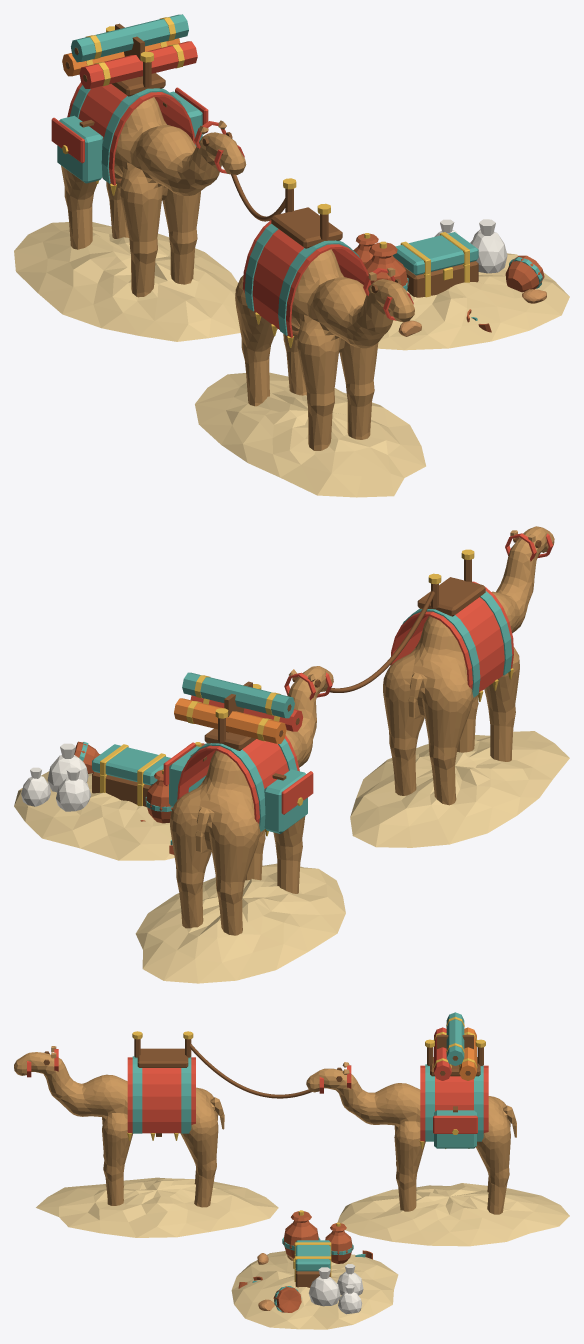
File: desert-camel-caravan.glb
The picture shows the model from 3 angles, top to bottom: view 1: azimuth 30°, elevation 25°; view 2: azimuth 150°, elevation 25°; view 3: azimuth 270°, elevation 25°; orthographic projection. The views are drawn at different scales.
Parts seen in each view (by area): view 1: CamelLead_Body, CamelPack_Sand, CamelLead_Sand, CamelPack_Body, Supply_Sand, CamelLead_Blanket, CamelPack_Blanket, Carpet_Roll_2, Carpet_Roll_0, Chest_Lid, SaddleBag_L, CamelLead_SaddleSeat (+10 smaller); view 2: CamelLead_Body, CamelPack_Sand, CamelPack_Body, CamelLead_Sand, Supply_Sand, CamelLead_Blanket, CamelPack_Blanket, Carpet_Roll_2, Carpet_Roll_1, Chest_Lid, SaddleBag_L, CamelLead_SaddleSeat (+12 smaller); view 3: CamelPack_Sand, CamelLead_Sand, CamelLead_Body, CamelPack_Body, Supply_Sand, CamelLead_Blanket, CamelPack_Blanket, CamelLead_SaddleSeat, Chest_Lid, SaddleBag_R, Carpet_Roll_2, SaddleBag_R_Flap (+13 smaller).
Boxes of the visible parts, x1,y1,x2,y2 form: CamelLead_Body: [235, 249, 414, 450]; CamelPack_Sand: [14, 222, 240, 341]; CamelLead_Sand: [195, 372, 425, 497]; CamelPack_Body: [61, 97, 246, 297]; Supply_Sand: [377, 253, 569, 350]; CamelLead_Blanket: [242, 220, 371, 337]; CamelPack_Blanket: [67, 82, 195, 185]; Carpet_Roll_2: [71, 14, 188, 62]; Carpet_Roll_0: [79, 41, 197, 88]; Chest_Lid: [393, 232, 478, 275]; SaddleBag_L: [57, 115, 103, 183]; CamelLead_SaddleSeat: [271, 207, 342, 248]; CamelLead_Body: [383, 526, 554, 805]; CamelPack_Sand: [135, 863, 345, 983]; CamelPack_Body: [170, 666, 333, 935]; CamelLead_Sand: [350, 731, 569, 847]; Supply_Sand: [14, 771, 174, 860]; CamelLead_Blanket: [390, 581, 513, 692]; CamelPack_Blanket: [177, 735, 299, 823]; Carpet_Roll_2: [182, 672, 294, 718]; Carpet_Roll_1: [174, 698, 286, 743]; Chest_Lid: [92, 744, 170, 785]; SaddleBag_L: [264, 769, 307, 833]; CamelLead_SaddleSeat: [417, 577, 485, 616]; CamelPack_Sand: [337, 1183, 569, 1246]; CamelLead_Sand: [36, 1177, 278, 1237]; CamelLead_Body: [14, 1046, 224, 1207]; CamelPack_Body: [306, 1062, 516, 1214]; Supply_Sand: [231, 1251, 398, 1329]; CamelLead_Blanket: [127, 1057, 195, 1133]; CamelPack_Blanket: [420, 1065, 488, 1141]; CamelLead_SaddleSeat: [137, 1048, 188, 1067]; Chest_Lid: [295, 1240, 330, 1271]; SaddleBag_R: [434, 1110, 476, 1148]; Carpet_Roll_2: [446, 1012, 464, 1065]; SaddleBag_R_Flap: [433, 1115, 477, 1133].
Bounding box in the file's own units: 18.13 × 10.47 × 28.51.
